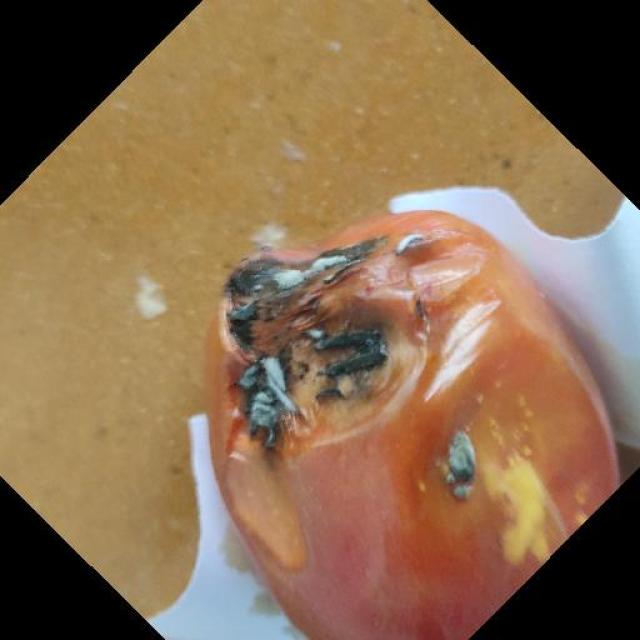Stale_tomato: (144, 189, 623, 636)
